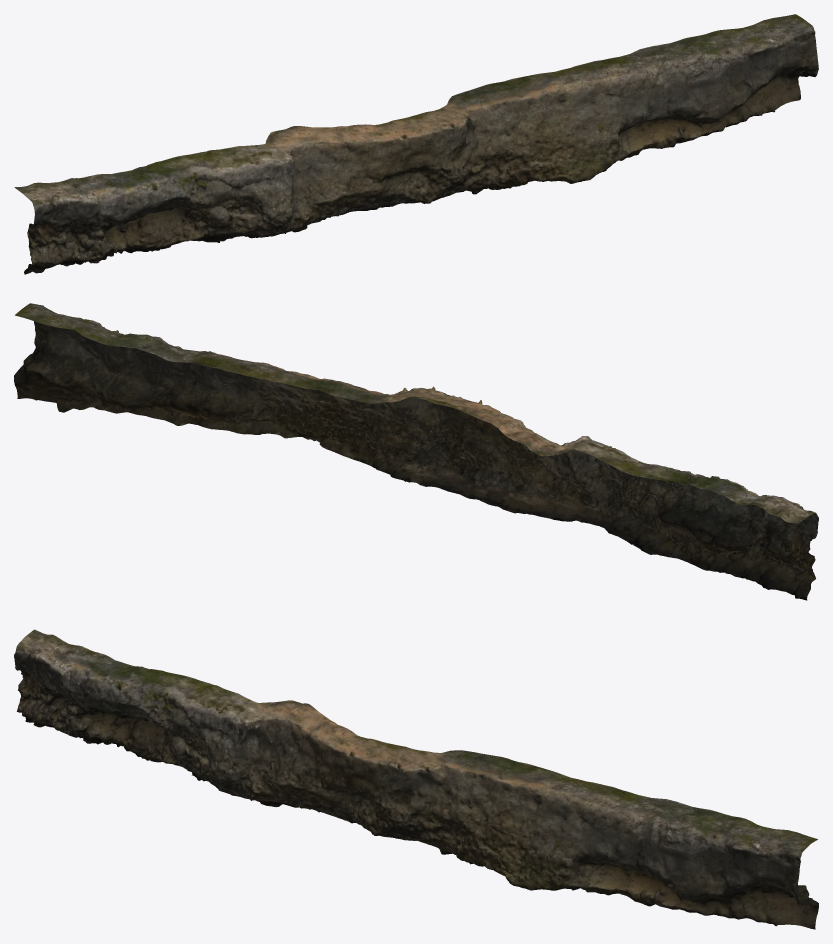
The model's file is coastal_cliff_01.glb.
3 views of the same model, one above another, from view 1: azimuth 30°, elevation 25°; view 2: azimuth 150°, elevation 25°; view 3: azimuth 330°, elevation 25° (orthographic). The views are drawn at different scales.
Parts seen in each view (by area): view 1: coastal_cliff_01; view 2: coastal_cliff_01; view 3: coastal_cliff_01.
Part boxes in pixels (x1,y1,x2,y2): coastal_cliff_01: (14, 14, 818, 274); coastal_cliff_01: (14, 303, 818, 600); coastal_cliff_01: (14, 629, 818, 929).
Size of the model in its own units: 91.98 by 10.33 by 10.97.
Materials: 1 (1 with a texture image).
